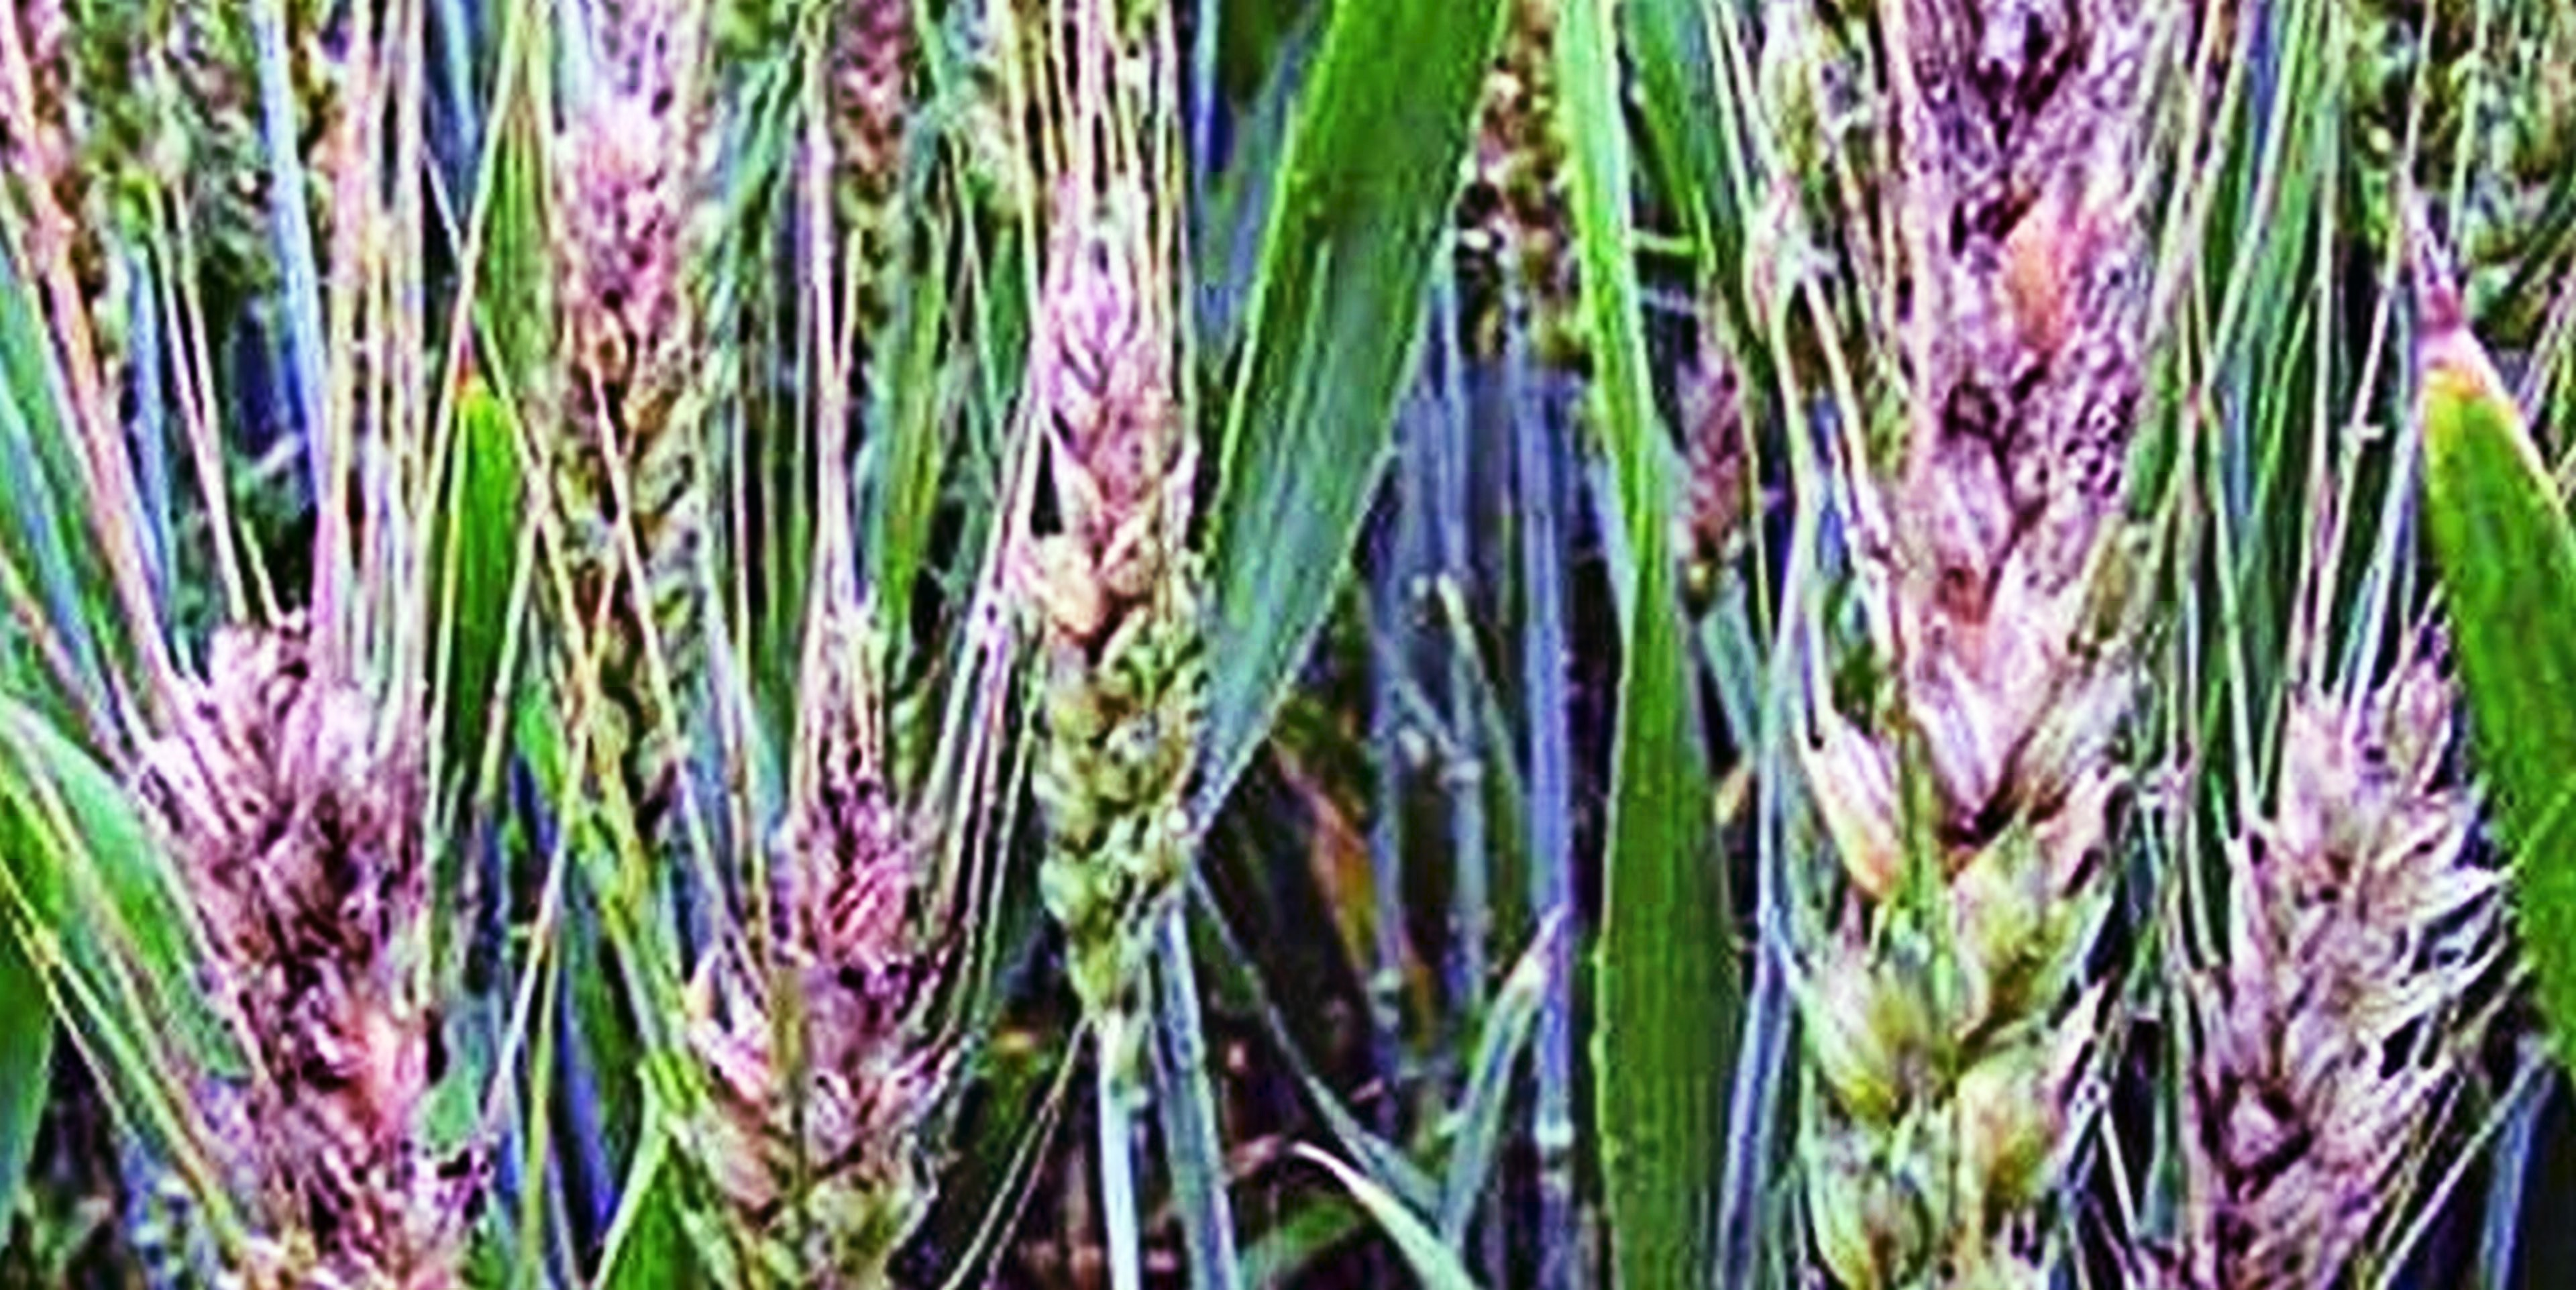Wheat scab: (985, 250, 1249, 1004)
